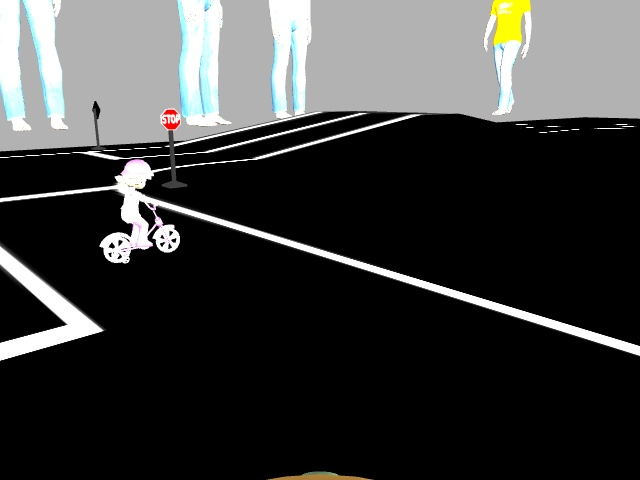Pedestrian: (94, 156, 185, 267)
Stop: (157, 107, 181, 132)
